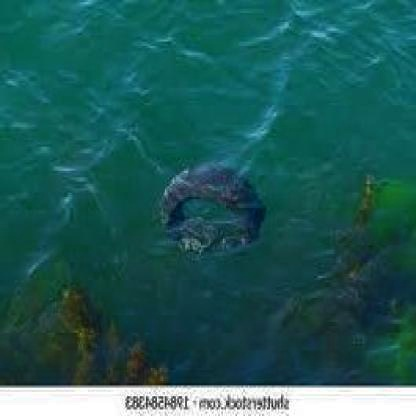tire: (160, 151, 273, 272)
